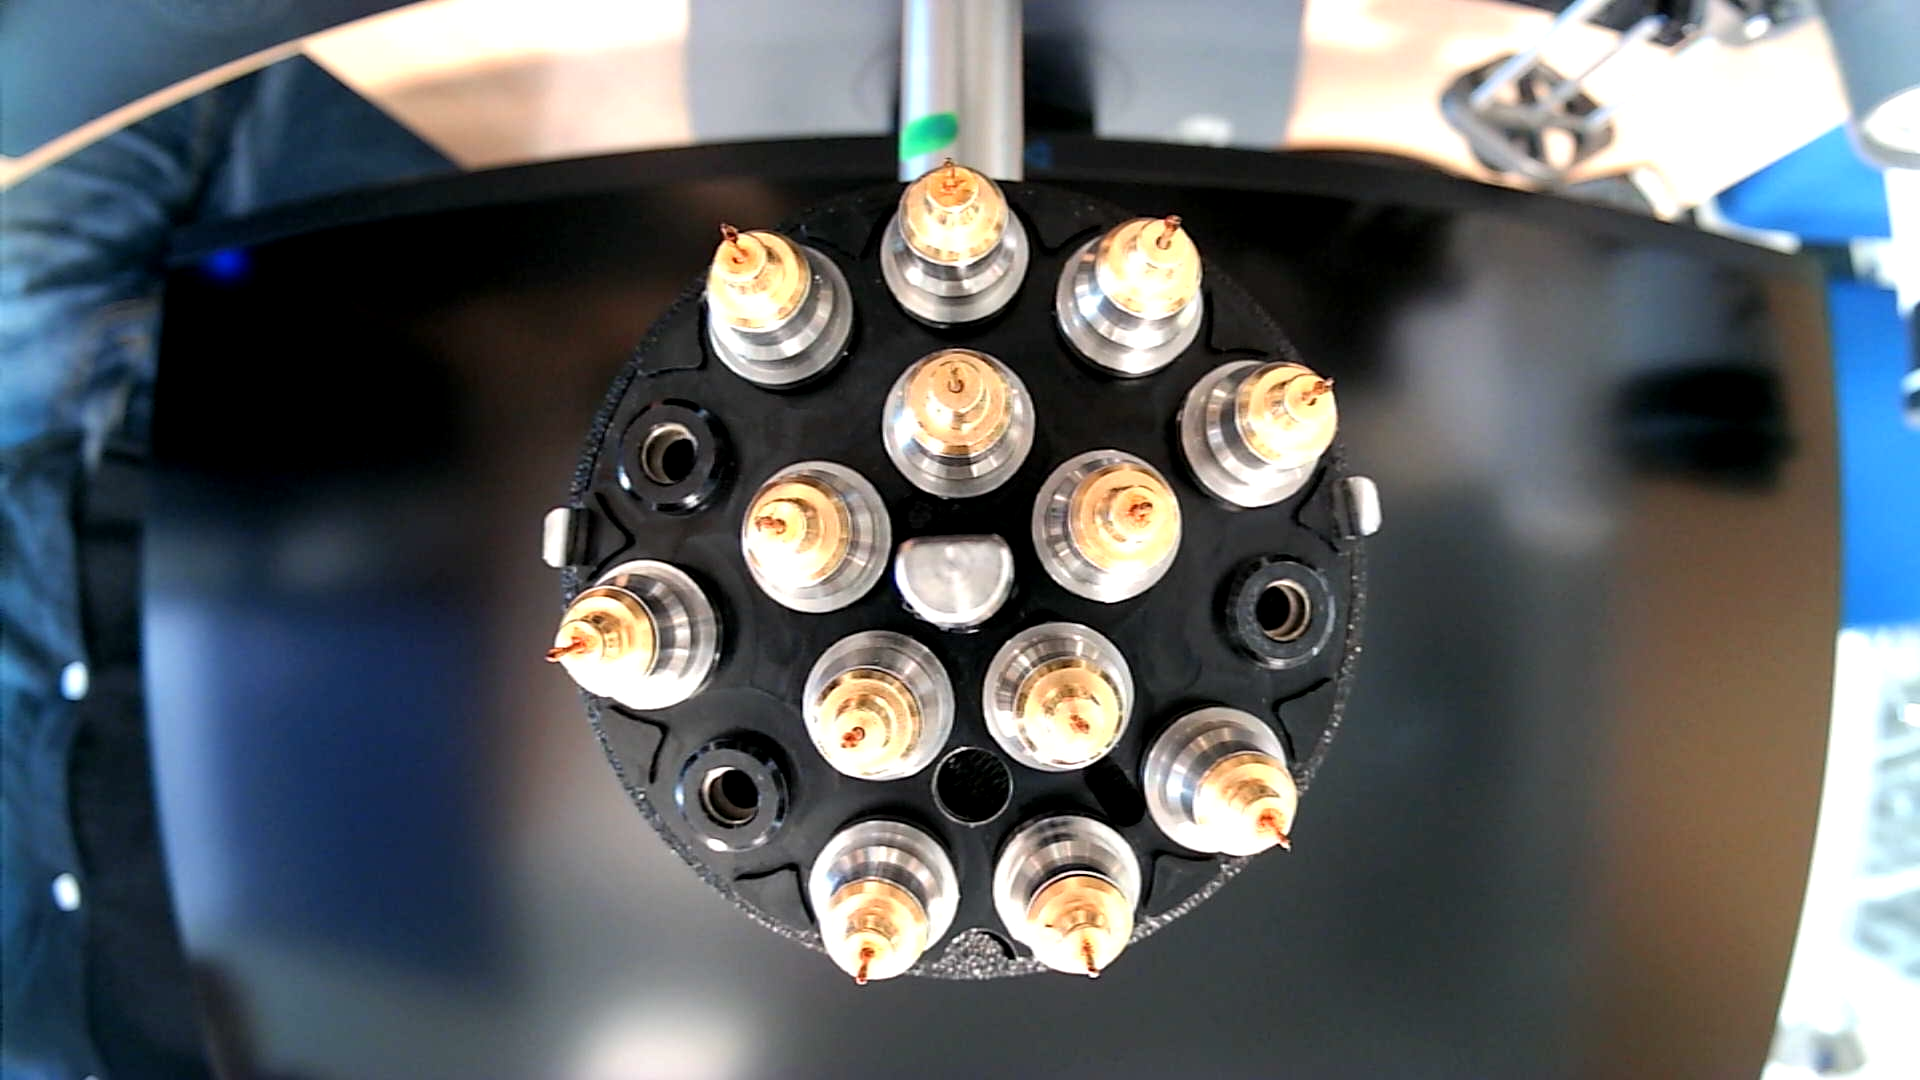empty: (673, 729, 804, 857), (1212, 553, 1342, 676), (615, 394, 737, 524)
hole: (930, 745, 1014, 831)
pin: (543, 555, 725, 715), (804, 812, 965, 990), (700, 218, 857, 396), (990, 808, 1145, 982), (878, 158, 1031, 334), (1054, 212, 1205, 384), (1141, 702, 1302, 858), (800, 626, 959, 785), (1179, 359, 1342, 512), (738, 458, 894, 617), (880, 347, 1038, 501), (1030, 448, 1184, 607), (980, 618, 1135, 774)
rod: (886, 527, 1021, 634)
